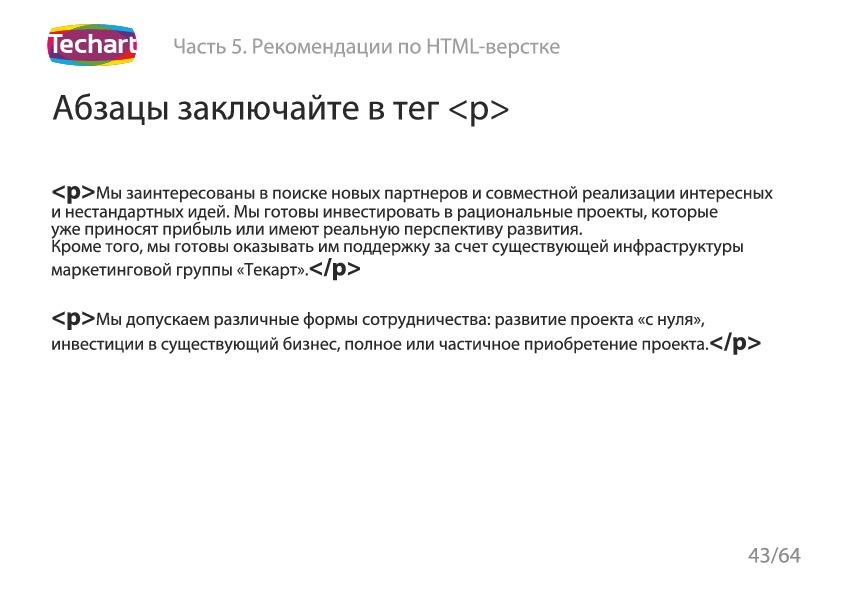paragraph: (35, 165, 790, 376)
subtitle: (38, 85, 516, 147)
title: (37, 23, 587, 77)
